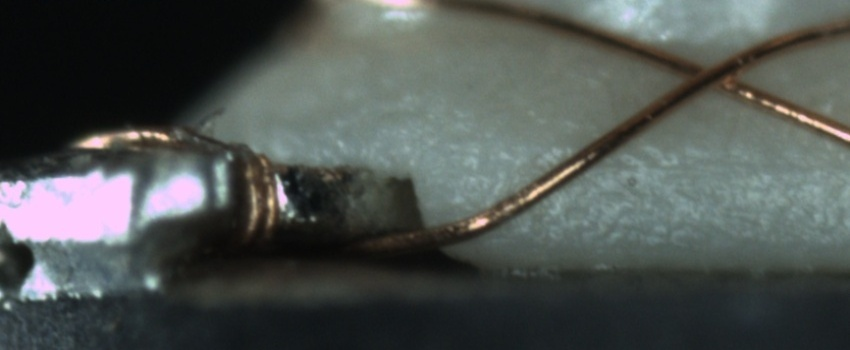CL: (666, 45, 760, 102)
DL: (586, 131, 849, 190)
TE: (68, 128, 284, 240)
